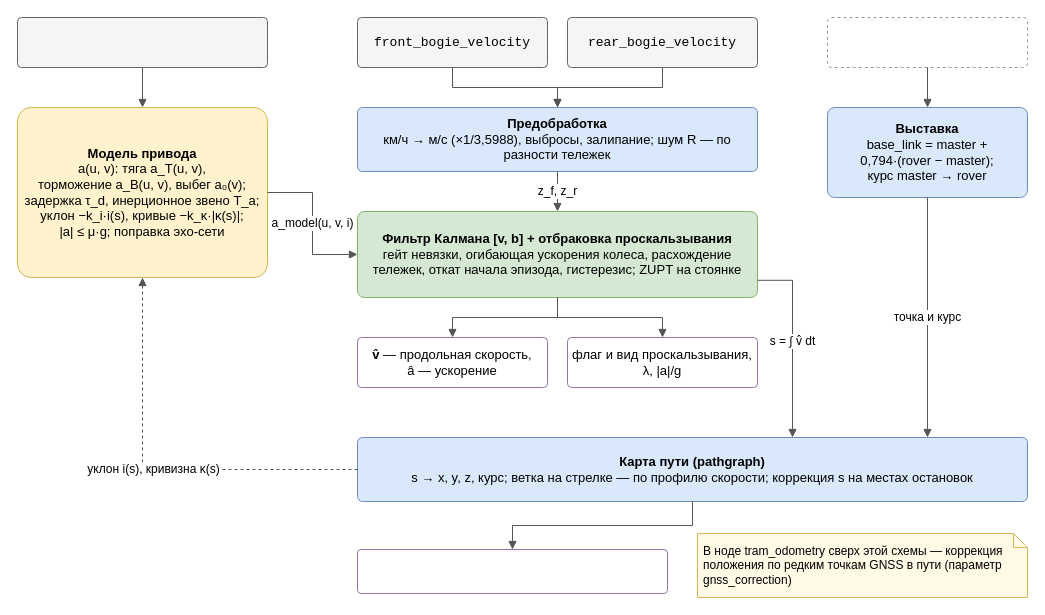
Some shapes in this 1045 by 615 pixel diagram are drawn without their labels. Each missing label, with the centre of its shape:
"driver_position_cmd позиция контроллера u" belongs at point (142, 42).
"GNSS master / rover первые ~2 с" belongs at point (927, 42).
"Положение — точка base_link в плоских MGRS" belongs at point (512, 571).
